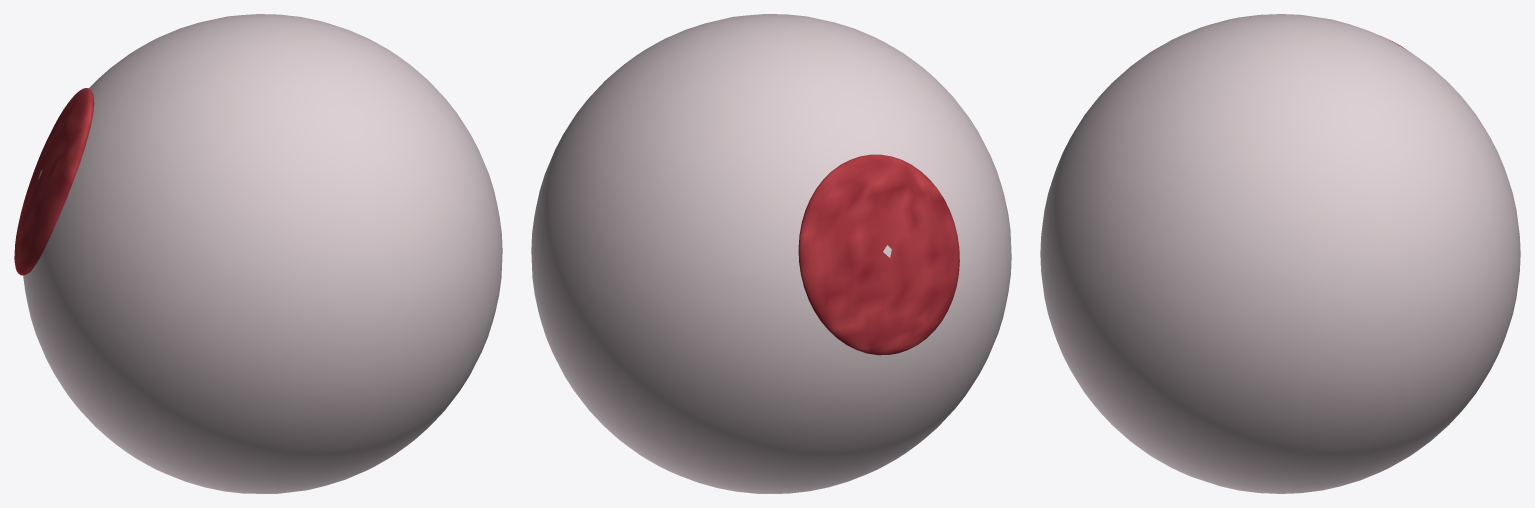
File: hafta_39.glb
The picture shows the model from 3 angles, left to right: view 1: azimuth 30°, elevation 25°; view 2: azimuth 150°, elevation 25°; view 3: azimuth 270°, elevation 25°; orthographic projection.
Parts seen in each view (by area): view 1: Amniyon_kesesi, Plasenta; view 2: Amniyon_kesesi, Plasenta; view 3: Amniyon_kesesi.
Boxes of the visible parts, x1,y1,x2,y2 form: Amniyon_kesesi: (23,14,502,493); Plasenta: (14,88,94,275); Amniyon_kesesi: (531,14,1011,493); Plasenta: (798,154,959,355); Amniyon_kesesi: (1040,14,1520,493).
Bounding box in the file's own units: 1.71 × 1.71 × 1.71.
